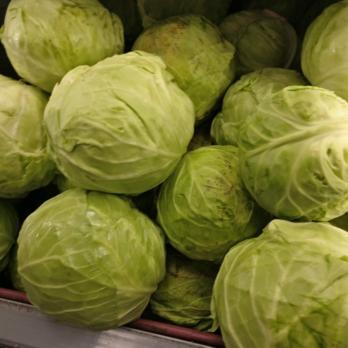Cabbage: (0, 0, 348, 329)
